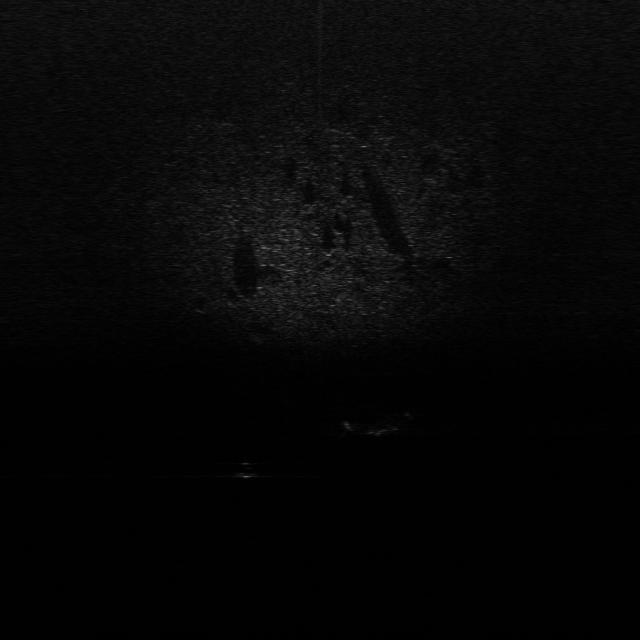ball: (234, 459, 270, 483)
human body: (342, 412, 413, 438)
